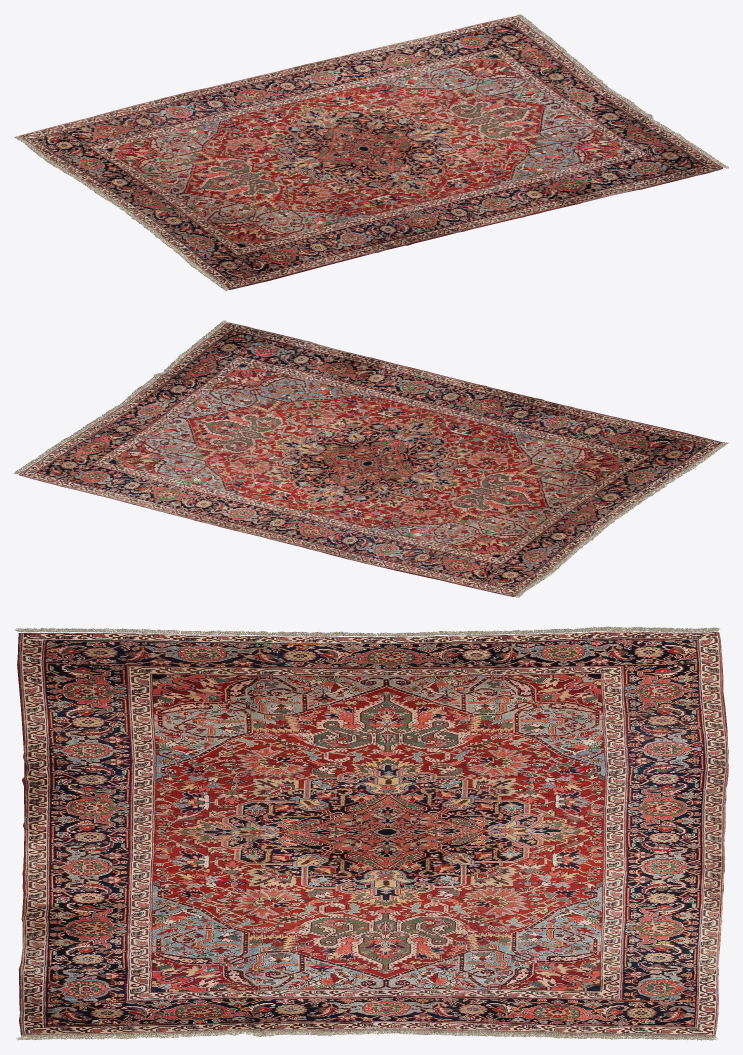
The model's file is fine_persian_heriz_carpet.glb.
3 renders of one model, top to bottom at view 1: azimuth 30°, elevation 25°; view 2: azimuth 150°, elevation 25°; view 3: azimuth 270°, elevation 25°, orthographic. The views are drawn at different scales.
Parts seen in each view (by area): view 1: Fine Persian Heriz Carpet_2, frange1_0, frange2_1; view 2: Fine Persian Heriz Carpet_2, frange1_0, frange2_1; view 3: Fine Persian Heriz Carpet_2, frange2_1, frange1_0.
Boxes of the visible parts, x1,y1,x2,y2 form: Fine Persian Heriz Carpet_2: (19,16,722,289); frange1_0: (14,136,228,291); frange2_1: (516,14,728,168); Fine Persian Heriz Carpet_2: (18,322,722,596); frange1_0: (515,442,728,597); frange2_1: (14,320,226,474); Fine Persian Heriz Carpet_2: (17,631,728,1037); frange2_1: (16,1028,717,1040); frange1_0: (14,626,720,636).
Bounding box in the file's own units: 3.93 × 0.0224 × 2.88.
Materials: 2 (1 with a texture image).
